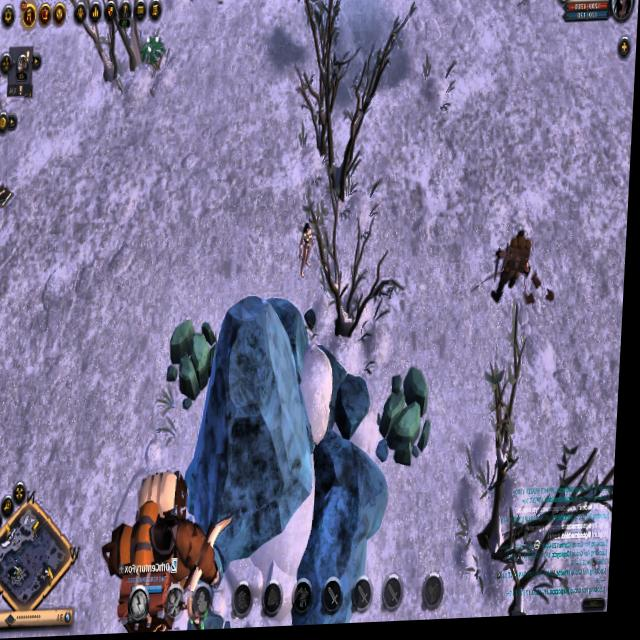flax: (139, 30, 168, 80)
mob: (490, 230, 540, 311)
sandstone: (377, 370, 440, 477), (168, 309, 223, 410)
tin_ore: (185, 596, 232, 633)
